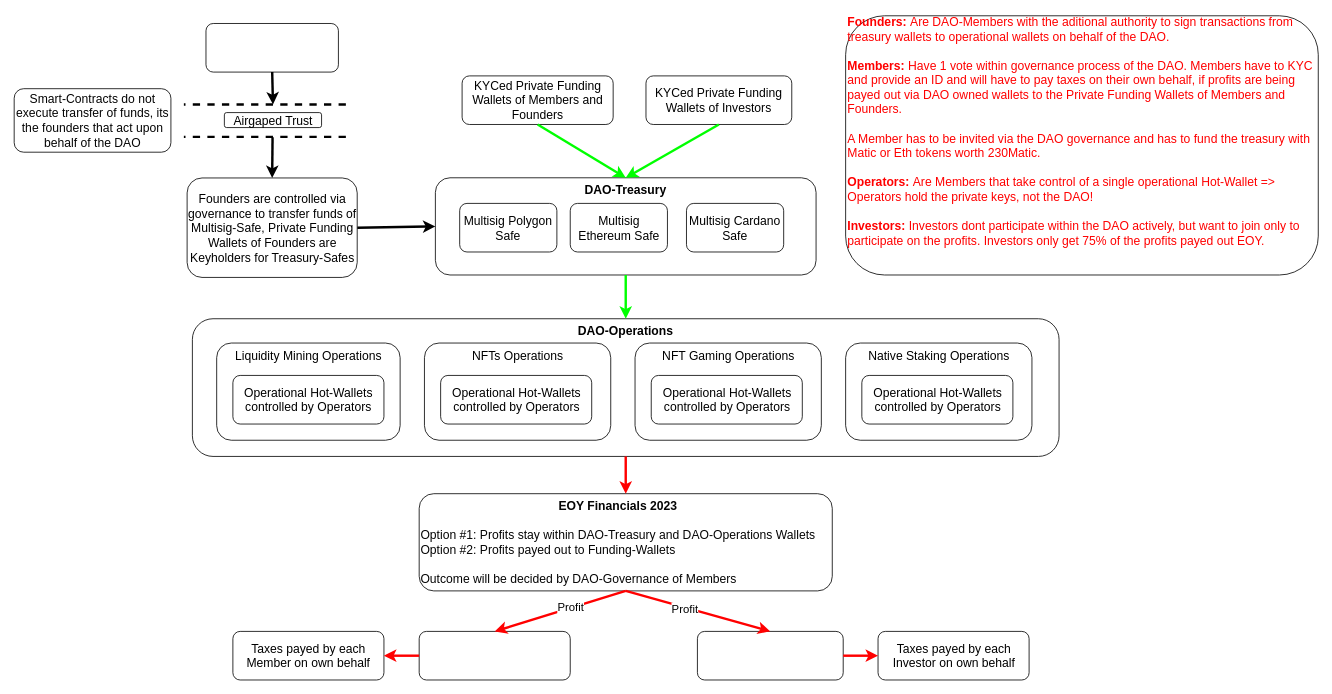
Some shapes in this 1332 by 694 pixel diagram are drawn without their labels. Here are the shapes that lost their labels. From the top down, the centre of each, then its label:
At [271,47]: "DAO-Governance; 1 Vote per Memeber".
At [494,655]: "KYCed Private Funding Wallet of Members and Founders".
At [770,655]: "KYCed Private Funding Wallet of Investors".
